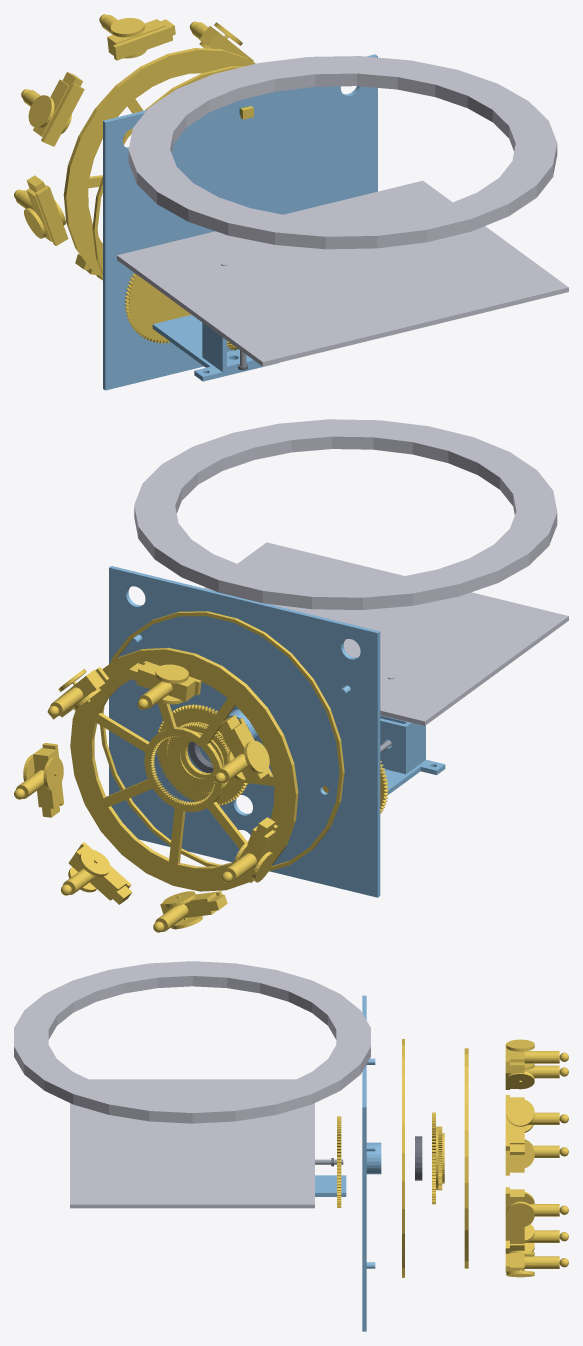
The model's file is m7_weekdays_exploded.dae.
3 views of the same model, one above another, from view 1: azimuth 30°, elevation 25°; view 2: azimuth 150°, elevation 25°; view 3: azimuth 270°, elevation 25° (orthographic). The views are drawn at different scales.
Visible parts, largest first — view 1: M2_back_plate_zone, deck, M2_calendar_ring_zone, turntable, bracket, chariot_6, lay_gear_85, chariot_5, chariot_0, chariot_4, rail; view 2: deck, M2_calendar_ring_zone, M2_back_plate_zone, turntable, turntable_hub, rail, bracket, chariot_6, chariot_2, chariot_3, chariot_5, chariot_0 (+2 smaller); view 3: M2_back_plate_zone, M2_calendar_ring_zone, deck, chariot_4, chariot_3, chariot_5, chariot_2, turntable, chariot_0, chariot_6, turntable_hub, chariot_1 (+2 smaller).
Boxes of the visible parts, x1,y1,x2,y2 form: M2_back_plate_zone: (117, 180, 568, 366); deck: (103, 54, 377, 390); M2_calendar_ring_zone: (128, 56, 557, 249); turntable: (63, 48, 253, 277); bracket: (152, 314, 278, 381); chariot_6: (21, 72, 84, 146); lay_gear_85: (124, 240, 191, 343); chariot_5: (99, 14, 175, 60); chariot_0: (14, 175, 68, 245); chariot_4: (189, 21, 255, 63); rail: (92, 66, 244, 275); deck: (109, 566, 380, 897); M2_calendar_ring_zone: (134, 419, 557, 609); M2_back_plate_zone: (204, 542, 568, 725); turntable: (70, 647, 298, 891); turntable_hub: (156, 704, 247, 805); rail: (100, 611, 344, 871); bracket: (380, 715, 445, 795); chariot_6: (214, 715, 272, 784); chariot_2: (61, 842, 132, 904); chariot_3: (14, 743, 63, 817); chariot_5: (128, 661, 201, 709); chariot_0: (221, 817, 277, 882); M2_back_plate_zone: (70, 1079, 314, 1208); M2_calendar_ring_zone: (14, 961, 370, 1123); deck: (362, 995, 381, 1331); chariot_4: (505, 1095, 568, 1154); chariot_3: (505, 1187, 568, 1243); chariot_5: (505, 1039, 568, 1073); chariot_2: (505, 1250, 568, 1277); turntable: (464, 1048, 468, 1268); chariot_0: (505, 1139, 568, 1175); chariot_6: (505, 1065, 568, 1089); turntable_hub: (432, 1112, 444, 1204); chariot_1: (505, 1224, 568, 1253).
Bounding box in the file's own units: 341 × 526 × 250.
